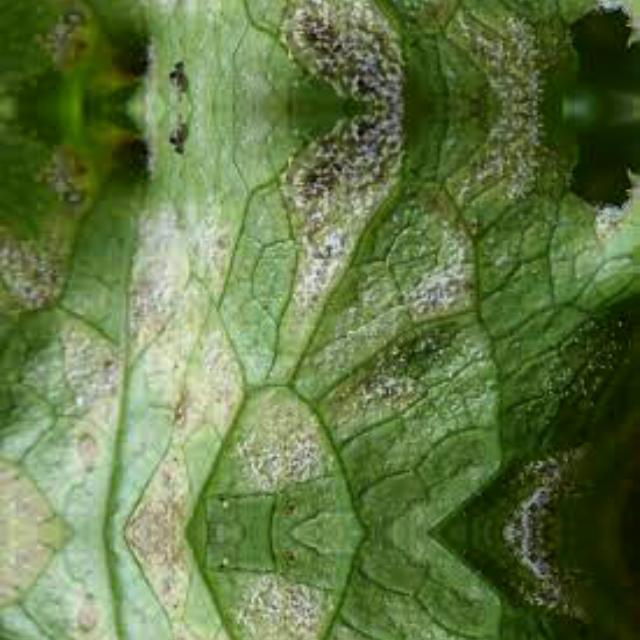Downy_mildew: (1, 107, 640, 533), (0, 0, 639, 107), (0, 533, 639, 640)
